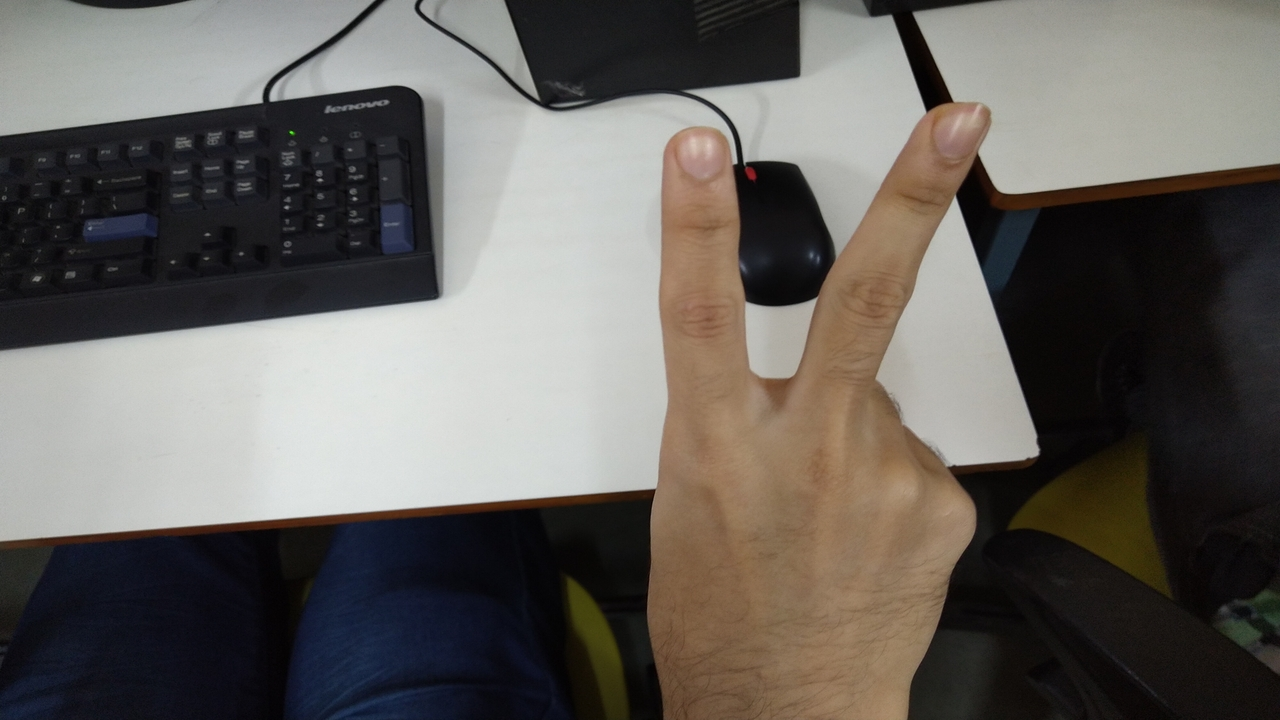fingertip: (662, 122, 736, 188), (926, 98, 1000, 160)
